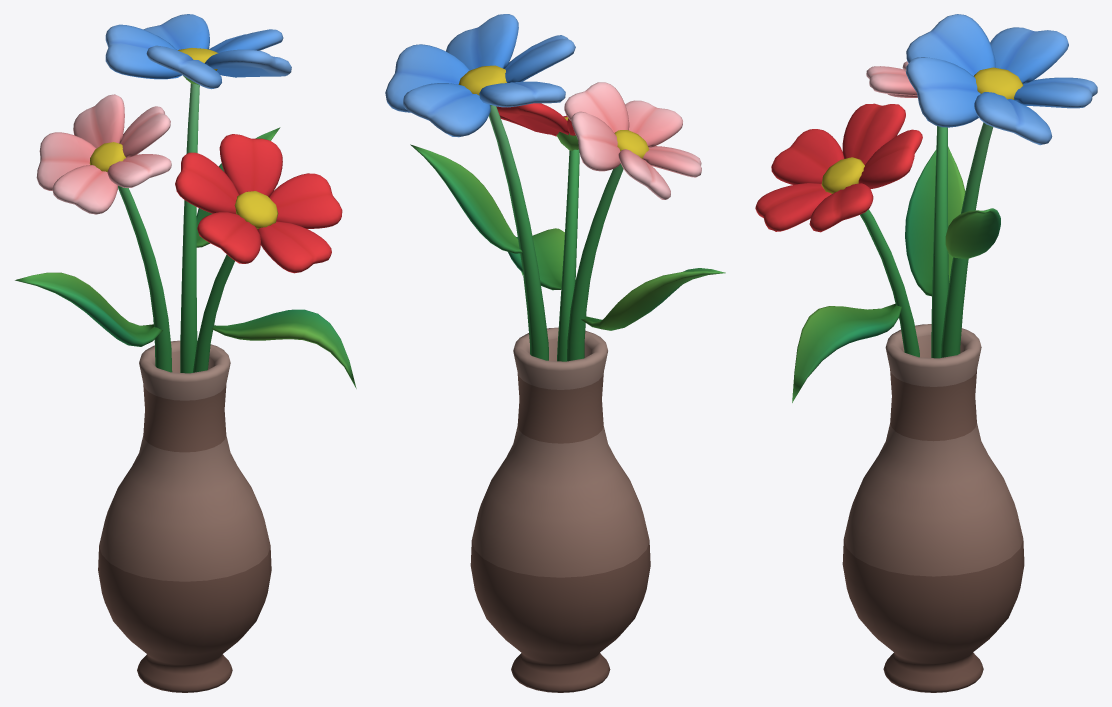
The model's file is Plants_12.glb.
3 renders of one model, left to right at view 1: azimuth 30°, elevation 25°; view 2: azimuth 150°, elevation 25°; view 3: azimuth 270°, elevation 25°, orthographic. The views are drawn at different scales.
Visible parts, largest first — view 1: Plants_12; view 2: Plants_12; view 3: Plants_12.
Part boxes in pixels (x1,y1,x2,y2): Plants_12: [15, 14, 356, 692]; Plants_12: [385, 14, 725, 692]; Plants_12: [755, 14, 1097, 692].
Size of the model in its own units: 0.4249 by 0.8672 by 0.4136.
1 material, 1 textured.
